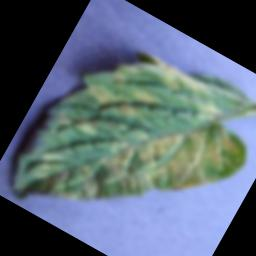Leaf_Mold: (93, 84, 256, 237), (120, 45, 208, 111), (81, 81, 118, 112), (129, 85, 162, 112), (197, 96, 226, 124)
